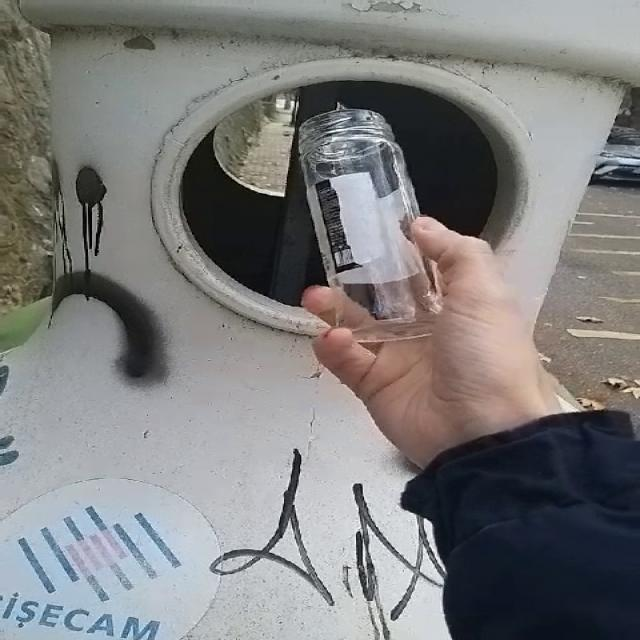Glass: (299, 105, 443, 343)
